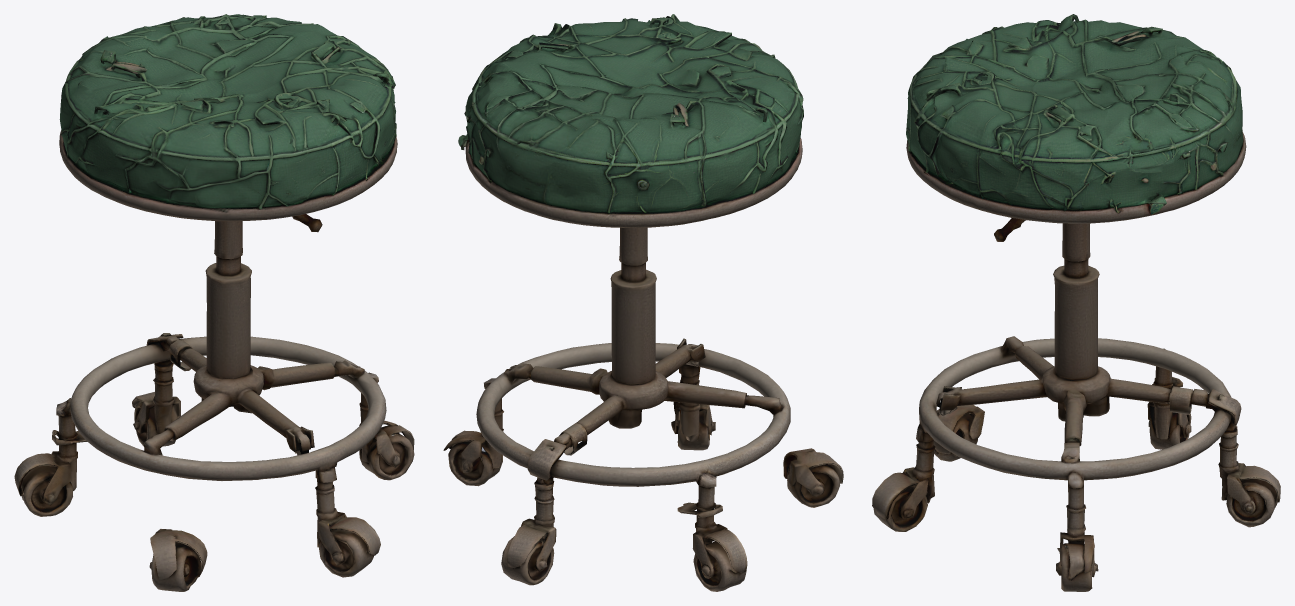
3 views of the same model, side by side, from view 1: azimuth 30°, elevation 25°; view 2: azimuth 150°, elevation 25°; view 3: azimuth 270°, elevation 25° (orthographic).
Visible parts, largest first — view 1: tripo_node_45c2413c-7137-4c4f-bc92-2fec349a4e40; view 2: tripo_node_45c2413c-7137-4c4f-bc92-2fec349a4e40; view 3: tripo_node_45c2413c-7137-4c4f-bc92-2fec349a4e40.
Part boxes in pixels (bbox=[...]): tripo_node_45c2413c-7137-4c4f-bc92-2fec349a4e40: bbox=[14, 14, 414, 591]; tripo_node_45c2413c-7137-4c4f-bc92-2fec349a4e40: bbox=[443, 14, 843, 591]; tripo_node_45c2413c-7137-4c4f-bc92-2fec349a4e40: bbox=[872, 14, 1280, 591].
Bounding box in the file's own units: 0.8002 × 1 × 0.8268.
1 material, 1 textured.
